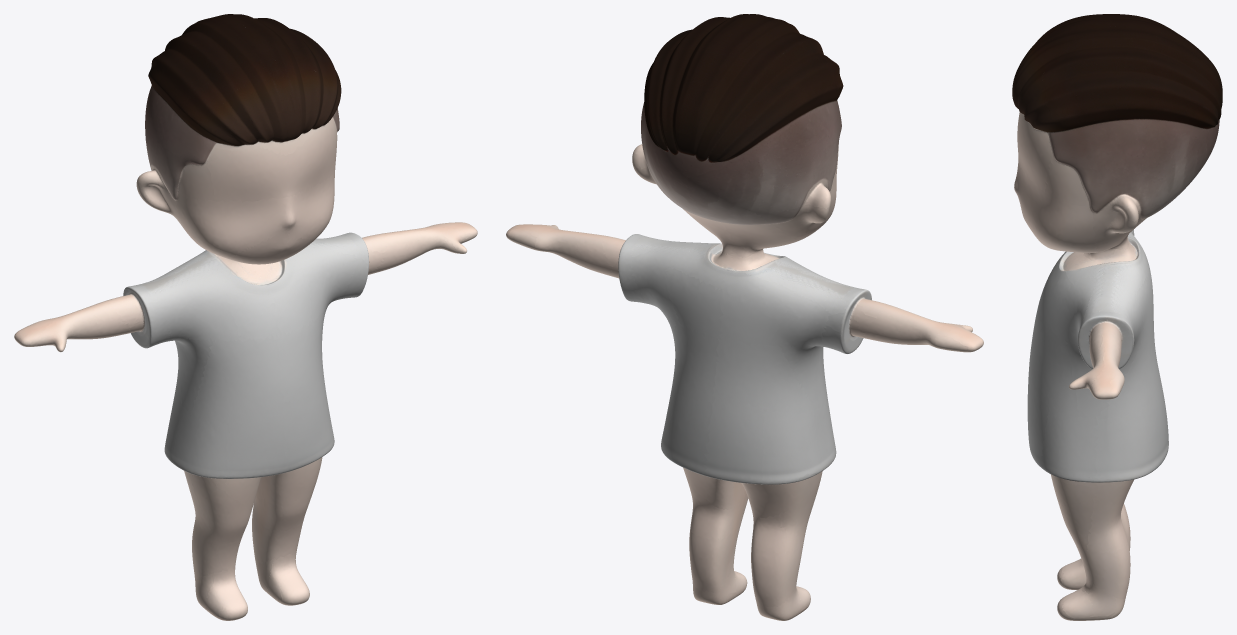
Rendered from baked_nhair_undercut.glb.
3 renders of one model, left to right at view 1: azimuth 30°, elevation 25°; view 2: azimuth 150°, elevation 25°; view 3: azimuth 270°, elevation 25°, orthographic. The views are drawn at different scales.
Size of the model in its own units: 1.6 by 1.9 by 0.631.
1 material, 1 textured.
